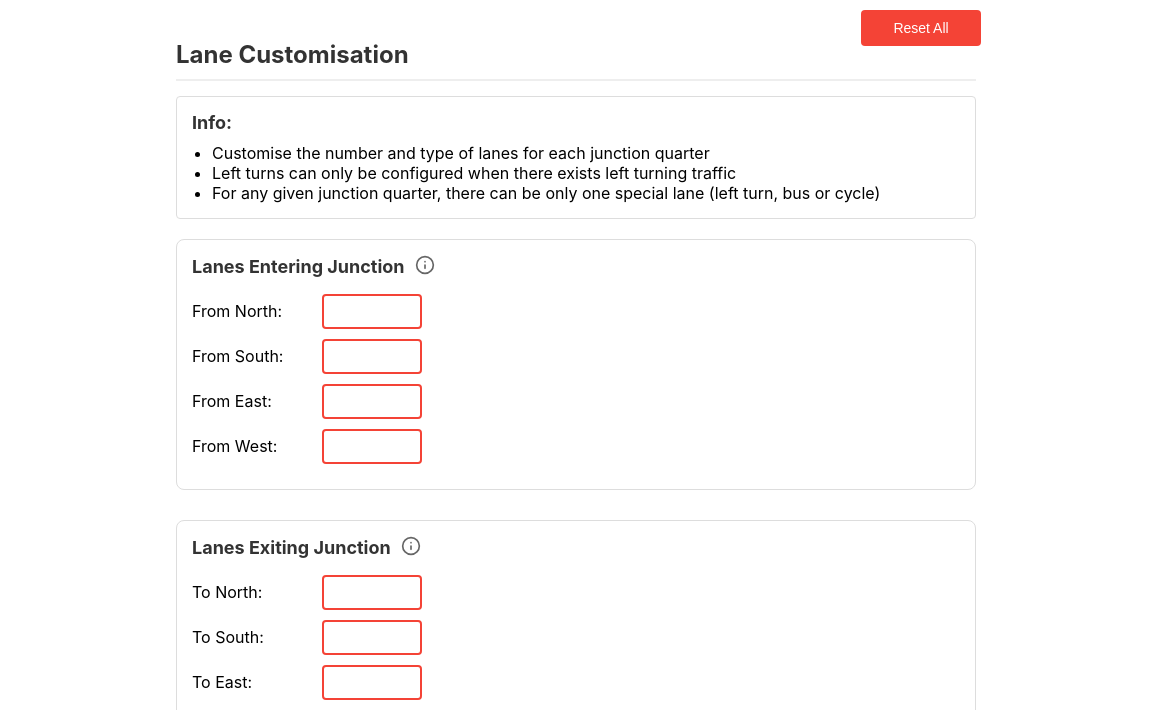
Scenario: LaneCustomisation Component › Input Validation › input validation: restricts input to max 5 lanes
The width and height of the screenshot is (1152, 710).
# Attempt to enter value greater than 5
In the number field labelled "From North:": x=372, y=311 x1=322 y1=294 x2=422 y2=329, type "7"
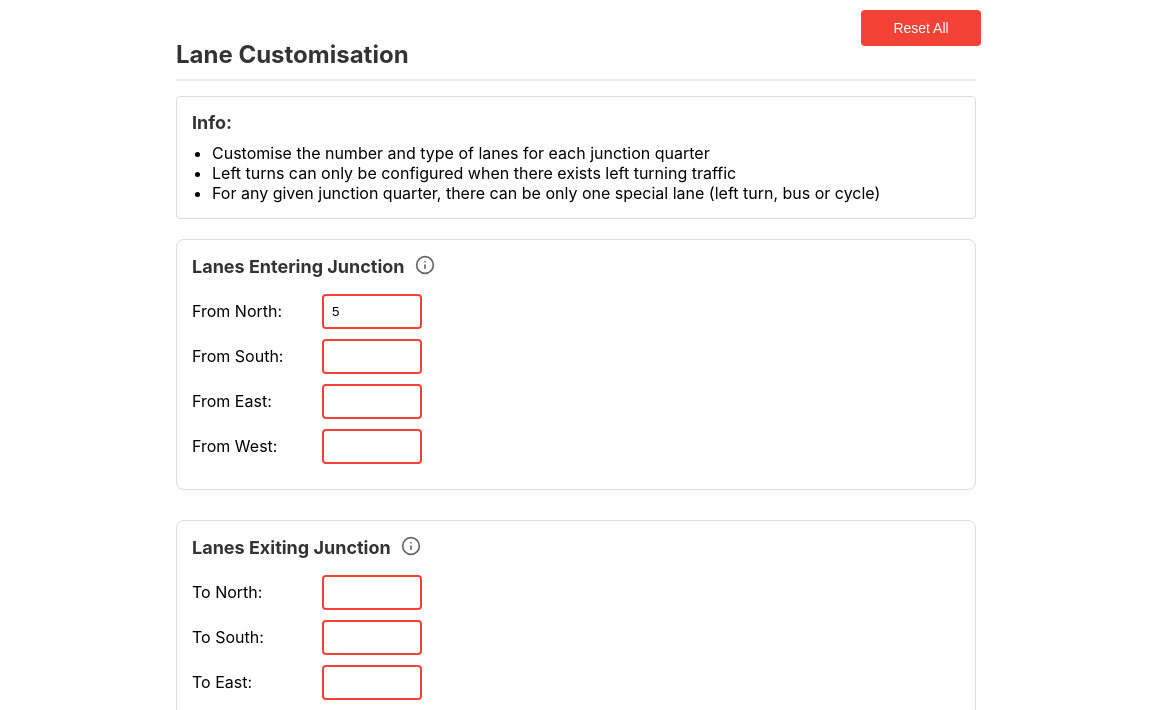
Expected: the number field labelled "From North:" holds "5", x1=322 y1=294 x2=422 y2=329
